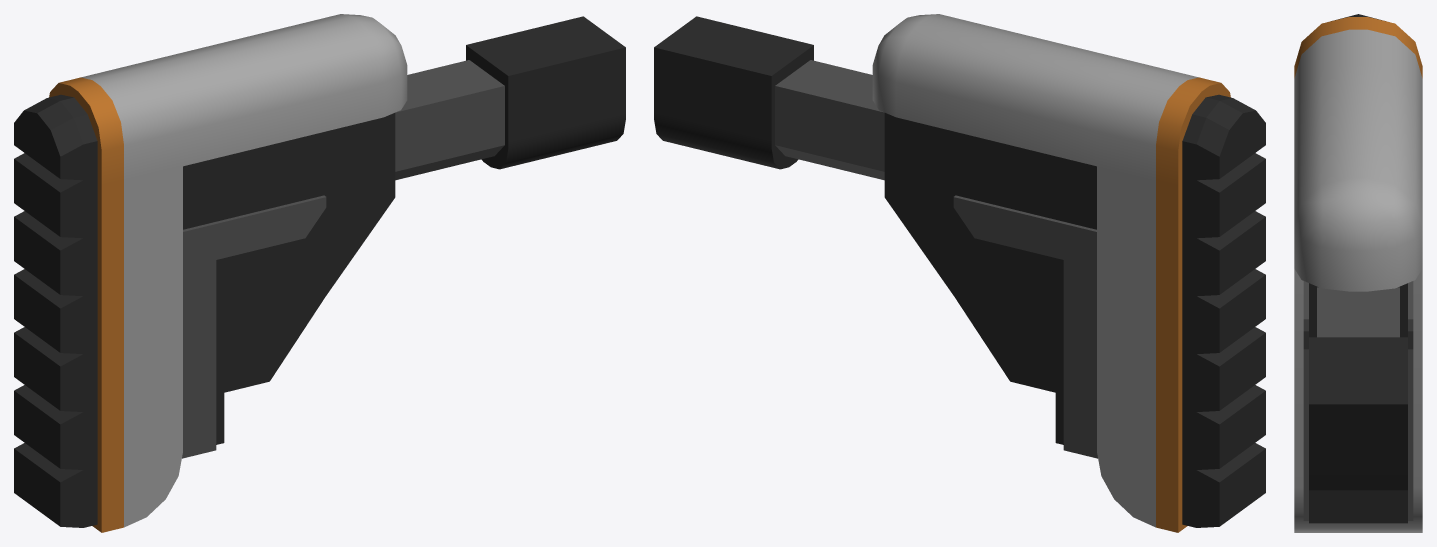
The model's file is Stock_SMG_1.glb.
3 views of the same model, side by side, from view 1: azimuth 30°, elevation 25°; view 2: azimuth 150°, elevation 25°; view 3: azimuth 270°, elevation 25° (orthographic). The views are drawn at different scales.
Parts seen in each view (by area): view 1: Stock_SMG_1; view 2: Stock_SMG_1; view 3: Stock_SMG_1.
Boxes of the visible parts, x1,y1,x2,y2 form: Stock_SMG_1: (14, 14, 625, 532); Stock_SMG_1: (654, 14, 1265, 532); Stock_SMG_1: (1294, 14, 1422, 532).
Size of the model in its own units: 0.5782 by 0.413 by 0.097.
